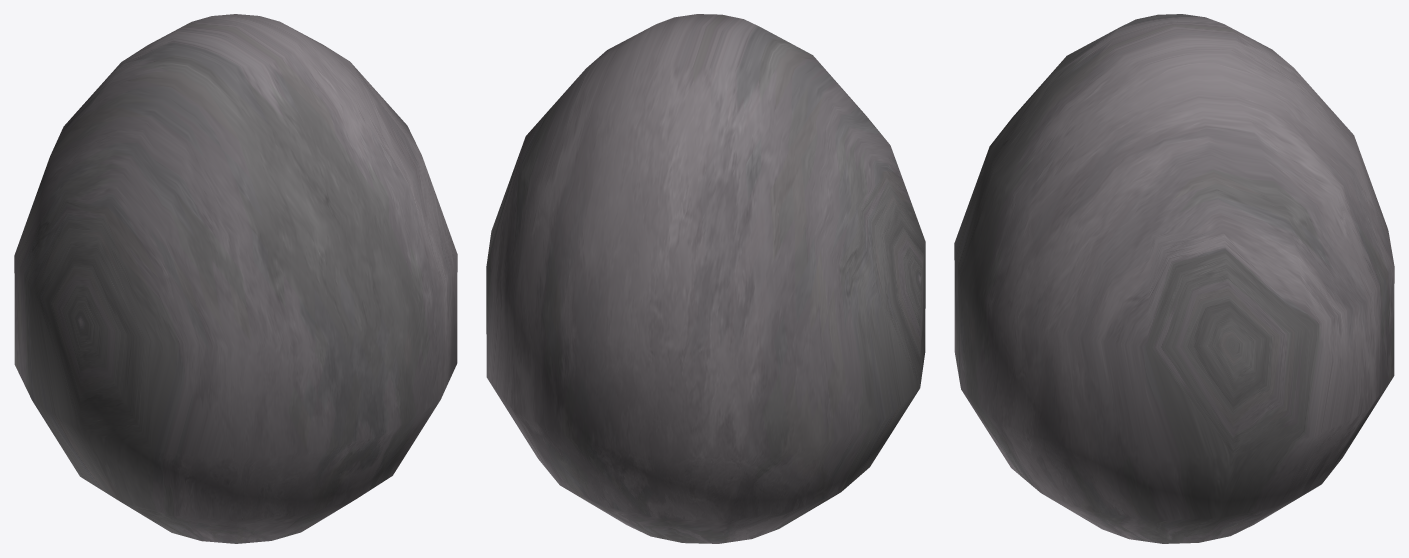
The model's file is Strange Egg.fbx.
3 renders of one model, left to right at view 1: azimuth 30°, elevation 25°; view 2: azimuth 150°, elevation 25°; view 3: azimuth 270°, elevation 25°, orthographic.
Visible parts, largest first — view 1: Sphere; view 2: Sphere; view 3: Sphere.
Boxes of the visible parts, bbox=[...] form: Sphere: bbox=[14, 14, 457, 543]; Sphere: bbox=[486, 14, 925, 543]; Sphere: bbox=[954, 14, 1394, 543].
Bounding box in the file's own units: 184 × 230 × 184.
